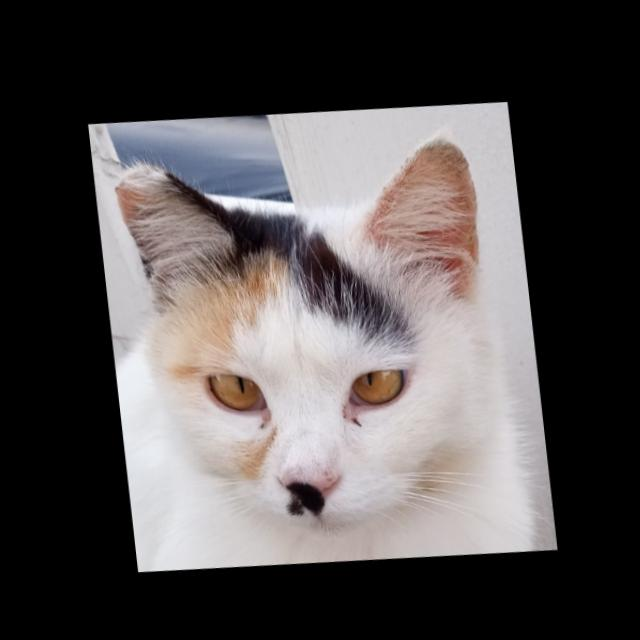animals: (105, 109, 519, 568)
